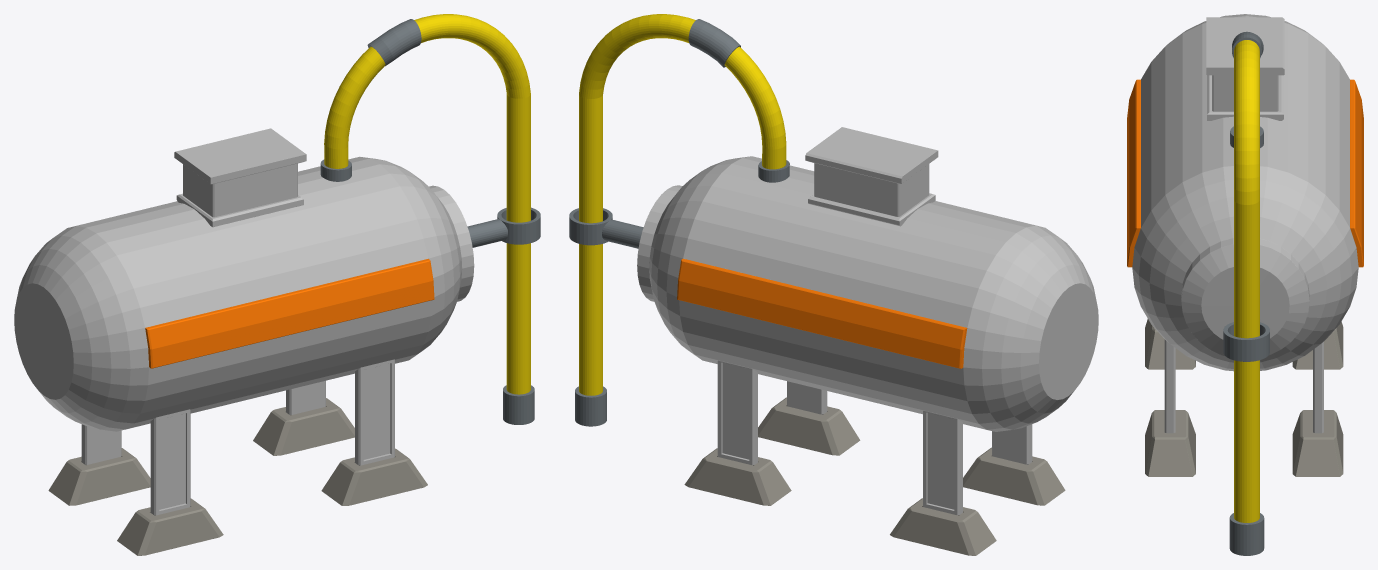
File: OilRig.fbx
3 views of the same model, side by side, from view 1: azimuth 30°, elevation 25°; view 2: azimuth 150°, elevation 25°; view 3: azimuth 270°, elevation 25° (orthographic). The views are drawn at different scales.
Parts seen in each view (by area): view 1: Cube.007; view 2: Cube.007; view 3: Cube.007.
Boxes of the visible parts, x1=… form: Cube.007: x1=14, y1=14, x2=540, y2=555; Cube.007: x1=569, y1=14, x2=1098, y2=555; Cube.007: x1=1127, y1=14, x2=1363, y2=555.
Bounding box in the file's own units: 532 × 436 × 205.
